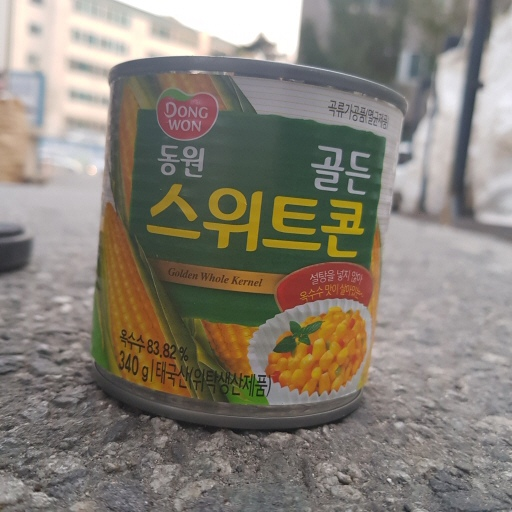Metal_1: (85, 55, 411, 424)
